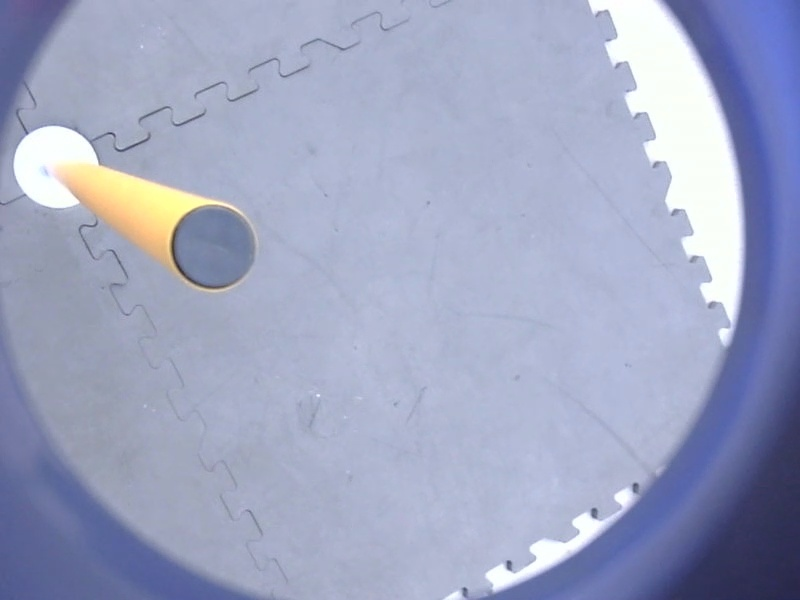tip: (162, 196, 265, 298)
